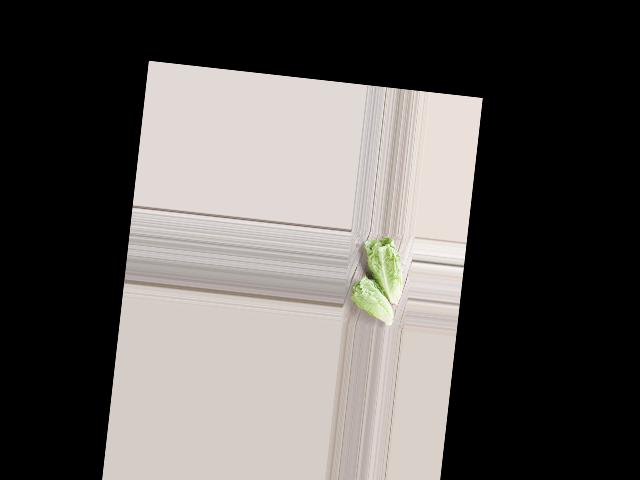lettuce: (344, 273, 399, 329)
